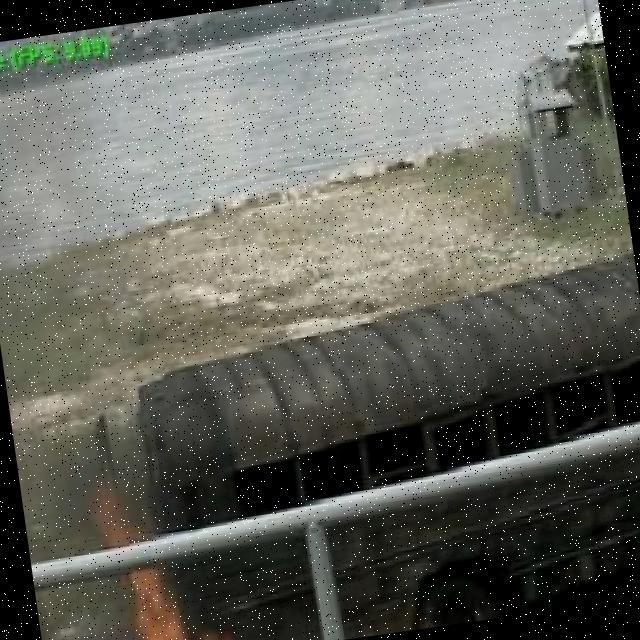Fire: (93, 490, 243, 640)
